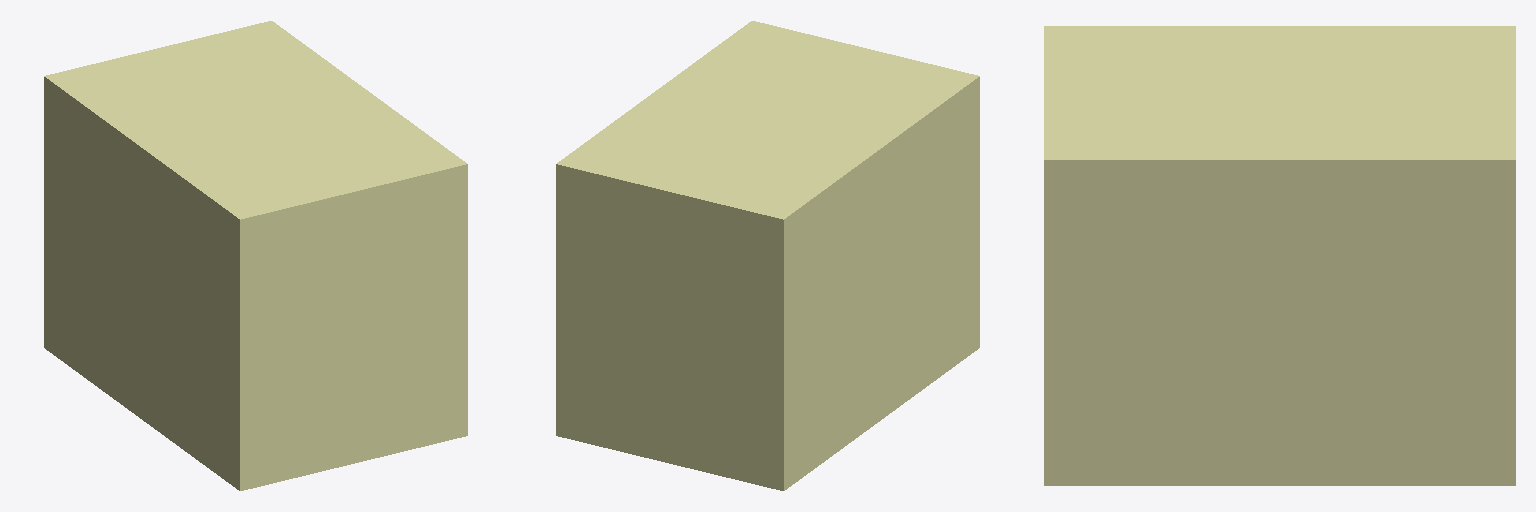
URDF robot description (box.urdf):
<?xml version="1.0" ?>
<robot name="box.urdf">
  <link name="baseLink">
    <contact>
      <lateral_friction value="1.0"/>
      <rolling_friction value="0.0001"/>
      <inertia_scaling value="3.0"/>
    </contact>
    <inertial>
      <origin rpy="0 0 0" xyz="0 0 0"/>
       <mass value="0.1"/>
       <inertia ixx="1" ixy="0" ixz="0" iyy="1" iyz="0" izz="1"/>
    </inertial>
    <visual>
      <origin rpy="0 0 0" xyz="0 0 0"/>
      <geometry>
        <!-- <box size="0.165 0.24600000000000002 0.188"/> -->
        <mesh filename="box/box.obj" scale="0.165 0.24600000000000002 0.188"/>
      </geometry>
      <material name="white">
        <color rgba="0.9 0.9 0.7 1"/>
      </material>
    </visual>
    <collision>
      <origin rpy="0 0 0" xyz="0 0 0"/>
      <geometry>
        <mesh filename="box/box.obj" scale="0.165 0.24600000000000002 0.188"/>
	 	    <!-- <box size="0.165 0.24600000000000002 0.188"/> -->
      </geometry>
    </collision>
  </link>
</robot>

--- Facts derived from the render (not from the file) ---
The picture shows the robot from 3 angles, left to right: view 1: azimuth 30°, elevation 25°; view 2: azimuth 150°, elevation 25°; view 3: azimuth 270°, elevation 25°; orthographic projection.
Robot: box.urdf — 1 links, 0 joints (none); root link baseLink; default pose: all joints at 0.
Visible links, largest first — view 1: baseLink; view 2: baseLink; view 3: baseLink.
Boxes of the visible links, x1,y1,x2,y2 form: baseLink: (44, 21, 467, 490); baseLink: (556, 21, 979, 490); baseLink: (1044, 26, 1515, 485).
Bounding box of the posed robot: 0.165 × 0.246 × 0.188 m (x, y, z).
1 mesh visuals loaded from 1 distinct referenced files (1 OBJ).
